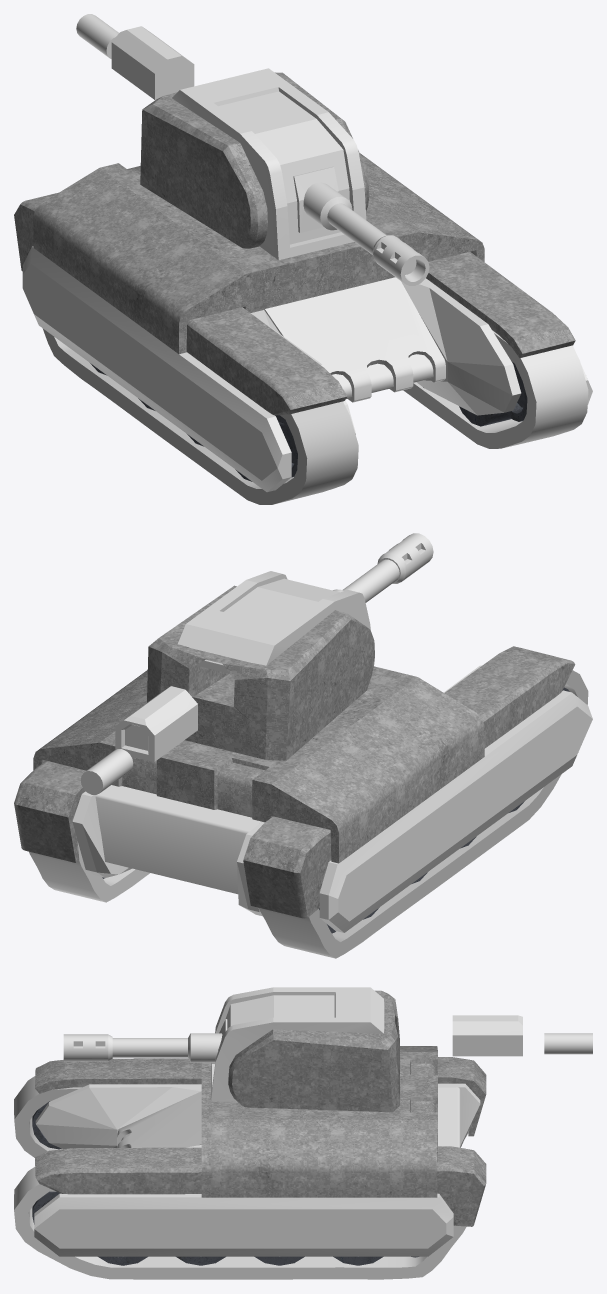
The model's file is Tank1.fbx.
3 views of the same model, one above another, from view 1: azimuth 30°, elevation 25°; view 2: azimuth 150°, elevation 25°; view 3: azimuth 270°, elevation 25° (orthographic). The views are drawn at different scales.
Parts seen in each view (by area): view 1: Frame_3_low, Lid_2_low, Tank_caterpillar _low, Lid_1_low, Tank_tower_1_low, Frame_1.1_low, Tank_tower_2_low, Frame_1_low, Frame_2.2_low, Sleeve_1_low, Gun_1_low, Gun_3_low (+3 smaller); view 2: Frame_3_low, Lid_2_low, Tank_tower_2_low, Lid_1_low, Frame_1_low, Frame_1.1_low, Tank_caterpillar _low, Tank_tower_1_low, Sleeve_1_low, Frame_2.2_low, Gun_3_low, Sleeve_2_low (+1 smaller); view 3: Lid_2_low, Frame_3_low, Lid_1_low, Tank_tower_2_low, Tank_caterpillar _low, Tank_tower_1_low, Frame_2.2_low, Frame_1_low, Frame_1.1_low, Sleeve_1_low, Gun_2_low, Gun_3_low (+3 smaller).
Boxes of the visible parts, box(x1,y1,x2,y2) form: Frame_3_low: box(33, 153, 484, 354); Lid_2_low: box(22, 246, 592, 492); Tank_caterpillar _low: box(42, 328, 588, 504); Lid_1_low: box(14, 192, 575, 415); Tank_tower_1_low: box(172, 68, 366, 260); Frame_1.1_low: box(264, 277, 445, 402); Tank_tower_2_low: box(140, 72, 369, 248); Frame_1_low: box(100, 163, 417, 312); Frame_2.2_low: box(251, 278, 521, 434); Sleeve_1_low: box(111, 26, 194, 99); Gun_1_low: box(293, 166, 352, 232); Gun_3_low: box(373, 235, 429, 285); Frame_3_low: box(33, 670, 484, 863); Lid_2_low: box(319, 690, 592, 932); Tank_tower_2_low: box(147, 585, 374, 760); Lid_1_low: box(14, 646, 575, 918); Frame_1_low: box(99, 666, 416, 822); Frame_1.1_low: box(95, 785, 261, 894); Tank_caterpillar _low: box(29, 670, 588, 958); Tank_tower_1_low: box(178, 571, 373, 673); Sleeve_1_low: box(115, 686, 197, 761); Frame_2.2_low: box(72, 665, 481, 916); Gun_3_low: box(377, 533, 433, 583); Sleeve_2_low: box(80, 749, 133, 794); Lid_2_low: box(34, 1193, 453, 1256); Frame_3_low: box(201, 1046, 437, 1197); Lid_1_low: box(35, 1057, 486, 1226); Tank_tower_2_low: box(228, 990, 399, 1112); Tank_caterpillar _low: box(14, 1076, 469, 1279); Tank_tower_1_low: box(211, 987, 384, 1101); Frame_2.2_low: box(35, 1083, 480, 1149); Frame_1_low: box(201, 1052, 437, 1119); Frame_1.1_low: box(117, 1087, 460, 1147); Sleeve_1_low: box(452, 1015, 522, 1056); Gun_2_low: box(112, 1038, 187, 1057); Gun_3_low: box(63, 1034, 112, 1061).
Bounding box in the file's own units: 391 × 320 × 770.
